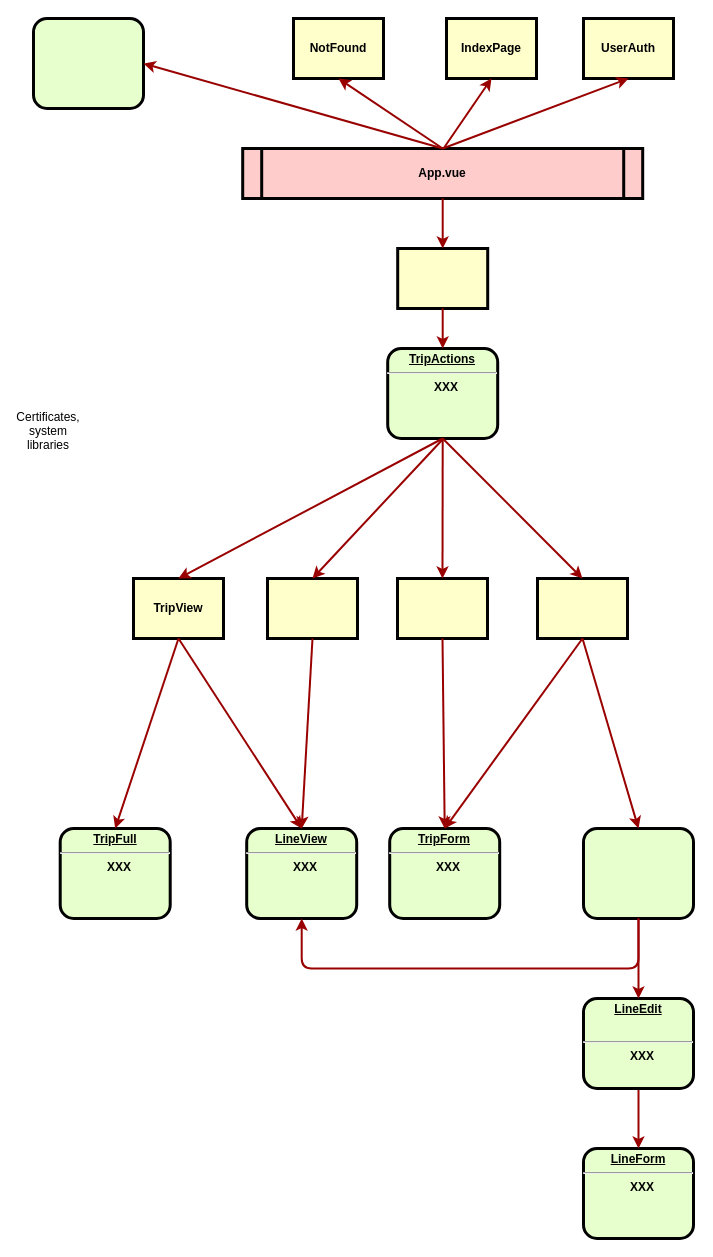
The diagram is 713 pixels wide and 1257 high, and some of its shapes have lost their labels. Each missing label, with the box of its shape:
LineActions XXX: (582, 826, 694, 920)
TheHeader XXX: (32, 16, 144, 110)
TripAdd: (396, 576, 488, 640)
TripEdit: (536, 576, 628, 640)
TripList: (396, 246, 489, 310)
TripViewPrint: (266, 576, 358, 640)
